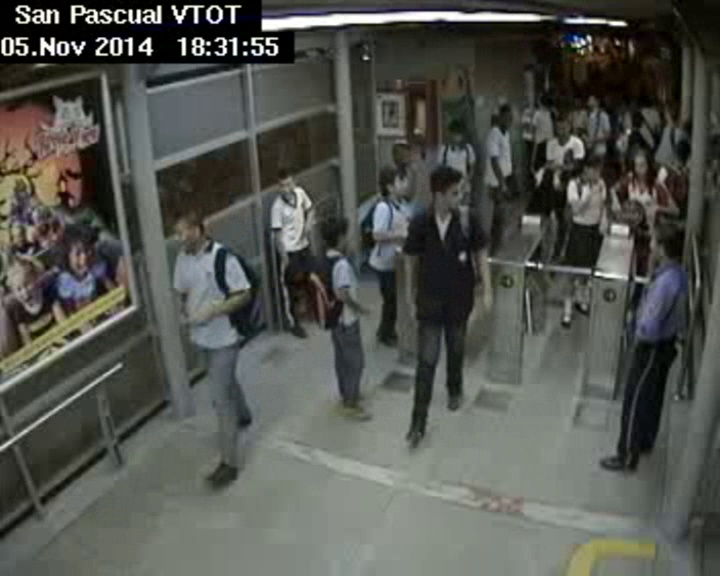person: (154, 205, 210, 251), (646, 218, 682, 261), (428, 165, 460, 209), (318, 211, 352, 250), (373, 163, 404, 205), (575, 151, 601, 186), (625, 146, 652, 175), (679, 119, 697, 162), (447, 121, 474, 149), (388, 140, 416, 167), (277, 169, 299, 202), (492, 96, 510, 129), (627, 108, 648, 130), (529, 89, 551, 109), (553, 117, 575, 136), (663, 101, 680, 125), (586, 89, 602, 104)
